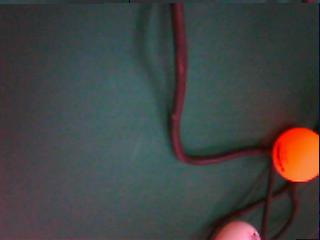oball: (270, 127, 320, 181)
